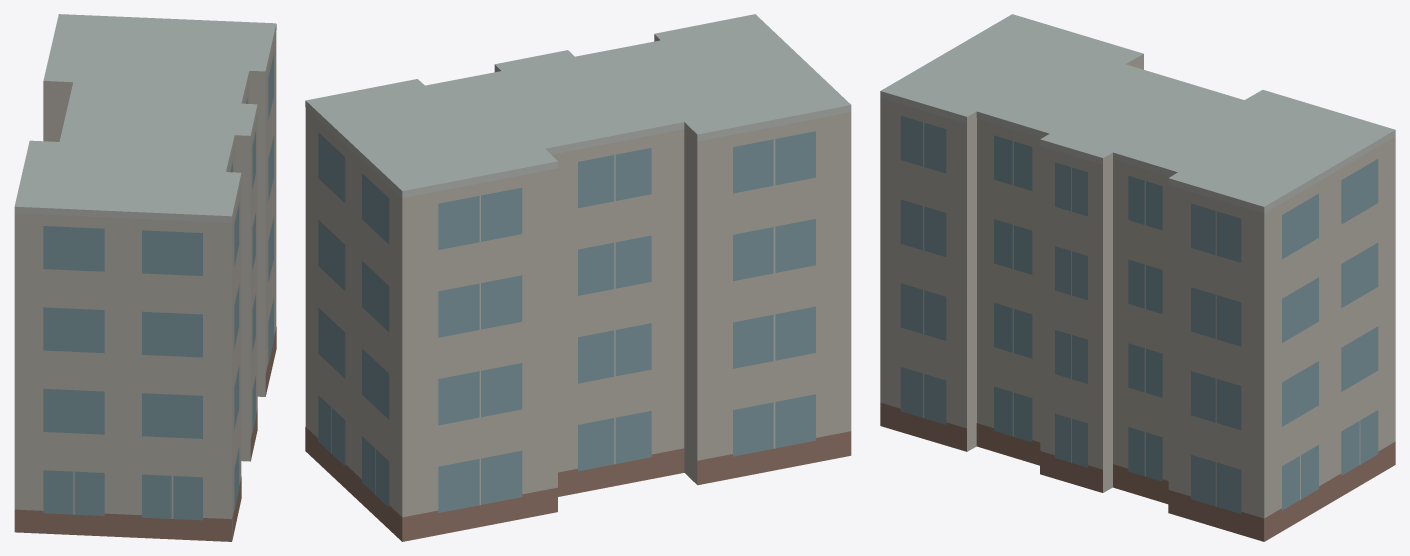
File: survey-upis-32901651.glb
3 views of the same model, side by side, from view 1: azimuth 30°, elevation 25°; view 2: azimuth 150°, elevation 25°; view 3: azimuth 270°, elevation 25° (orthographic). The views are drawn at different scales.
Parts seen in each view (by area): view 1: survey-upis-32901651.tmp; view 2: survey-upis-32901651.tmp; view 3: survey-upis-32901651.tmp.
Part boxes in pixels (box(x1,y1,x2,y2)): survey-upis-32901651.tmp: box(14, 14, 276, 541); survey-upis-32901651.tmp: box(305, 14, 851, 541); survey-upis-32901651.tmp: box(880, 14, 1395, 541).
Bounding box in the file's own units: 15.08 × 12.2 × 17.02.
